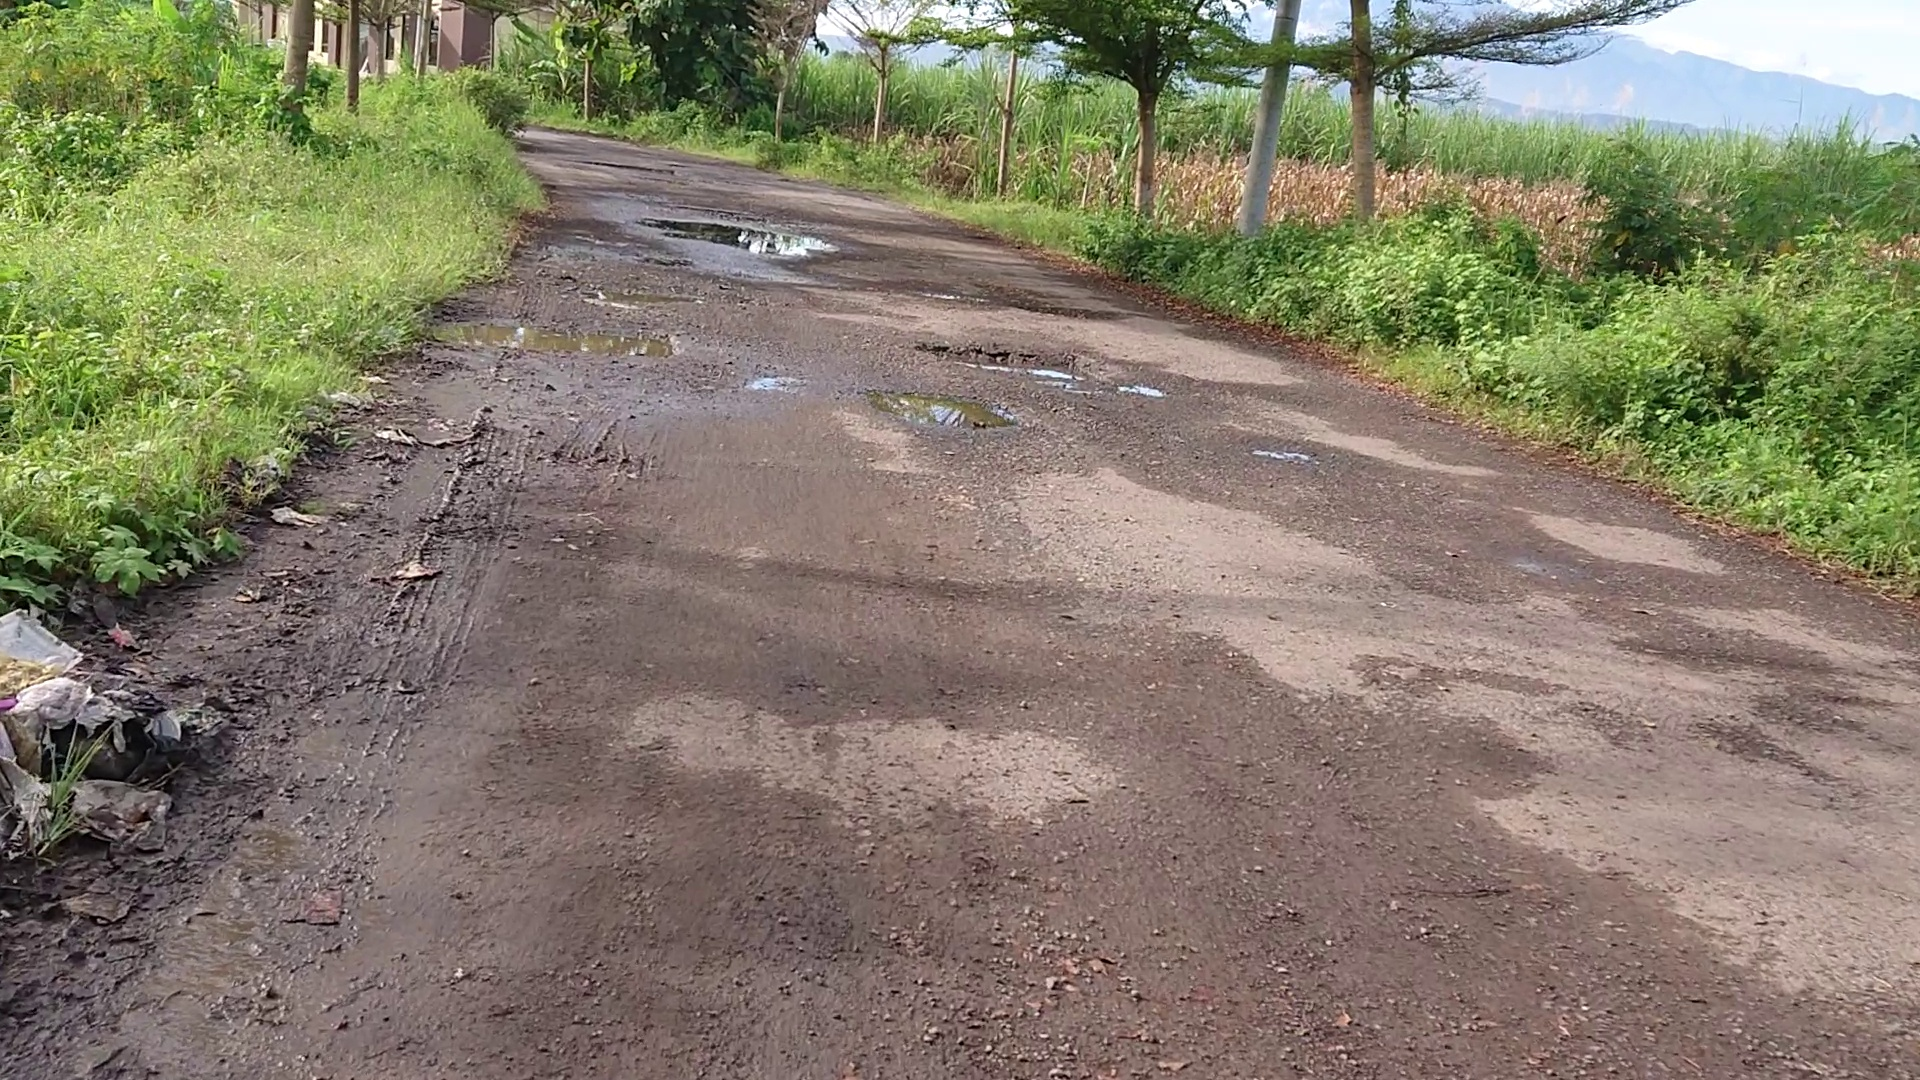Berlubang: (866, 339, 1164, 436), (874, 278, 1162, 334), (425, 320, 684, 355), (636, 222, 865, 256)
